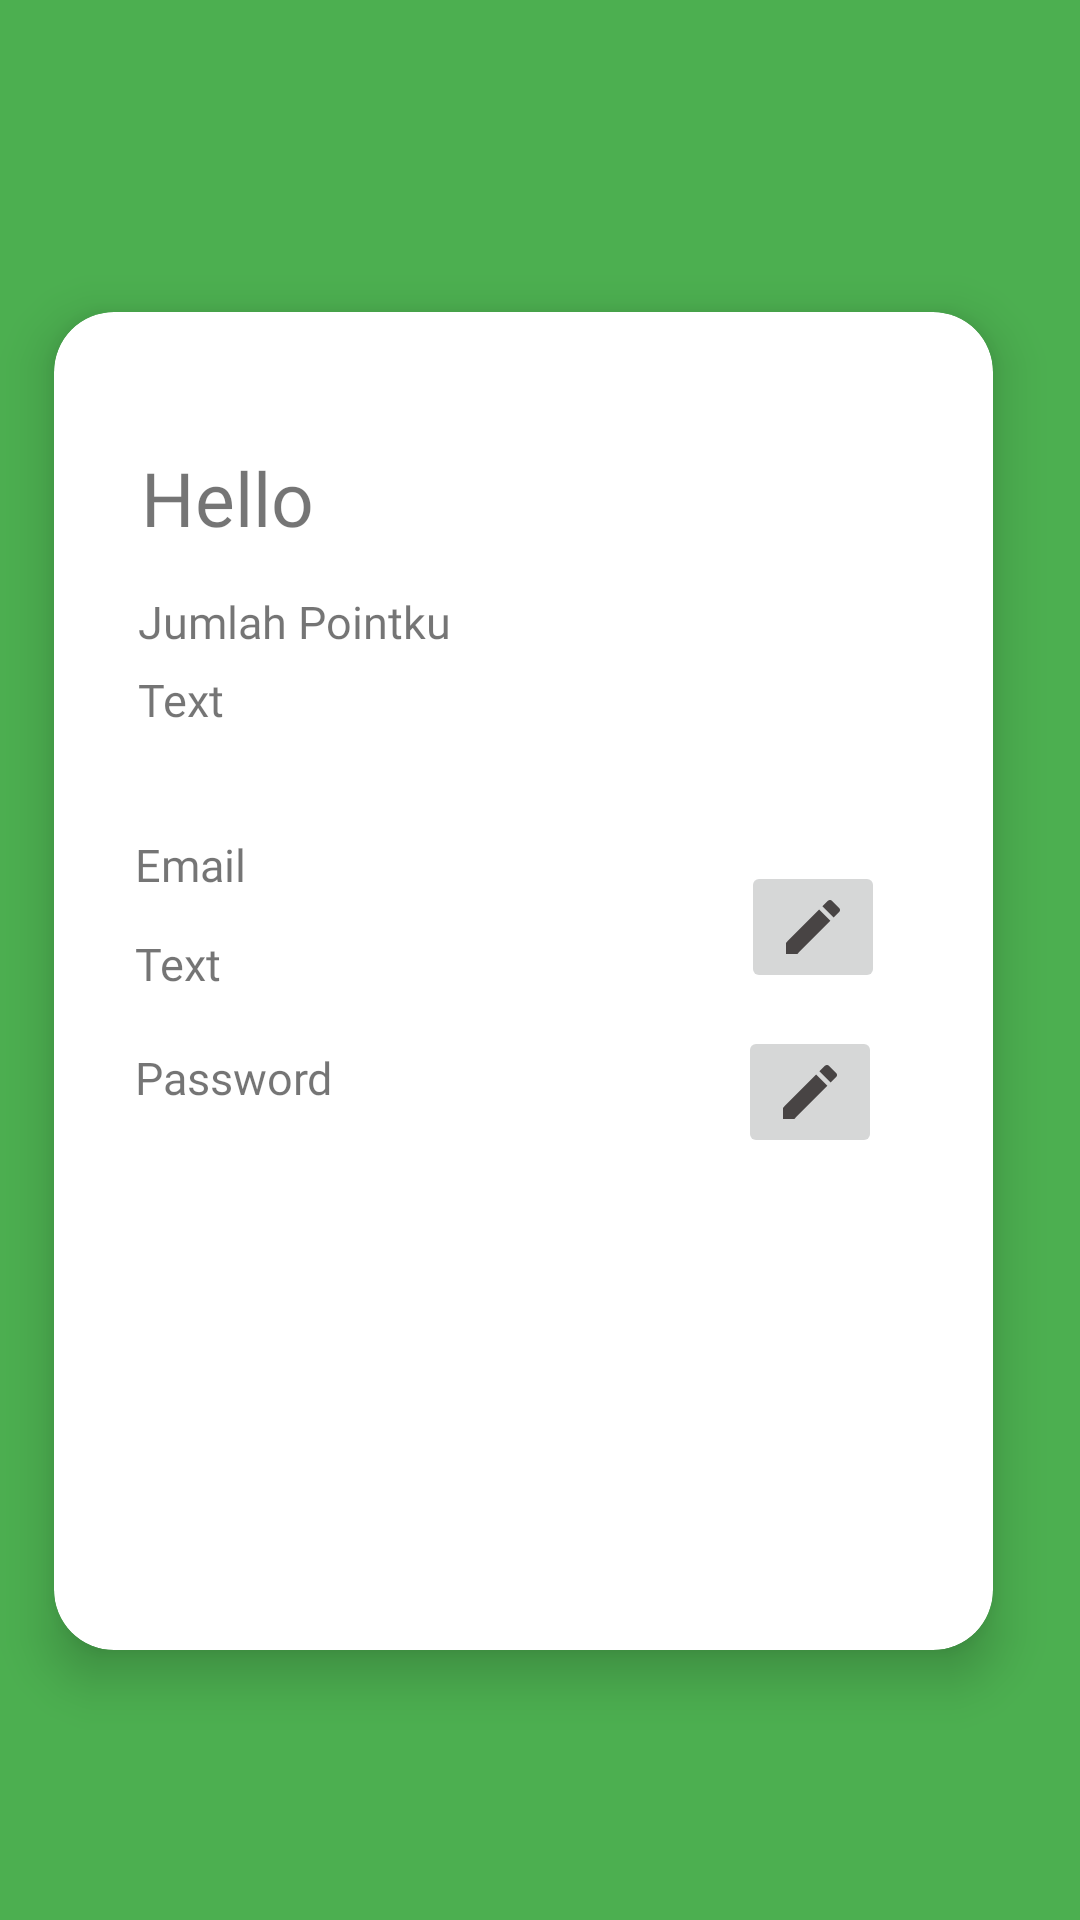

Icon click points for this 1080 × 1920 phone screenshot, format point (x, y):
edit: point (813, 927), point (810, 1092)
